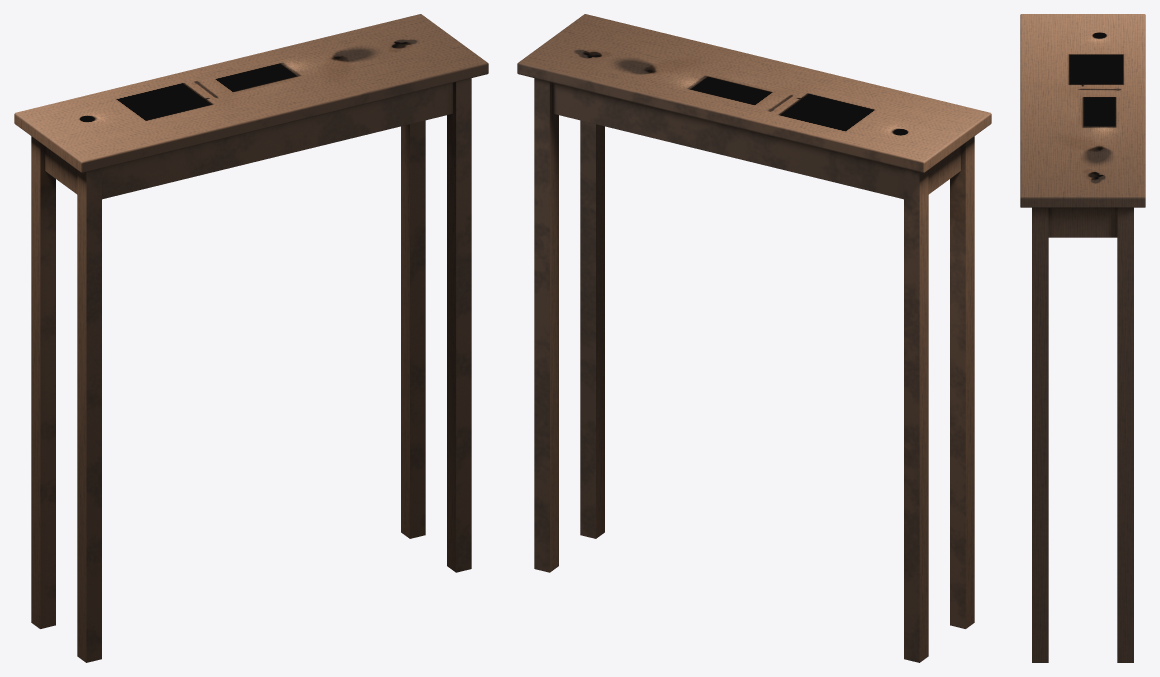
Rendered from 513_hook.glb.
The picture shows the model from 3 angles, left to right: view 1: azimuth 30°, elevation 25°; view 2: azimuth 150°, elevation 25°; view 3: azimuth 270°, elevation 25°; orthographic projection. The views are drawn at different scales.
Parts seen in each view (by area): view 1: Table; view 2: Table; view 3: Table.
Boxes of the visible parts, x1,y1,x2,y2 form: Table: (14, 14, 488, 662); Table: (517, 14, 991, 662); Table: (1020, 14, 1145, 662).
Size of what is drawn, in the model's own units: 2.6 by 3.1 by 0.75.
1 material, 1 textured.
